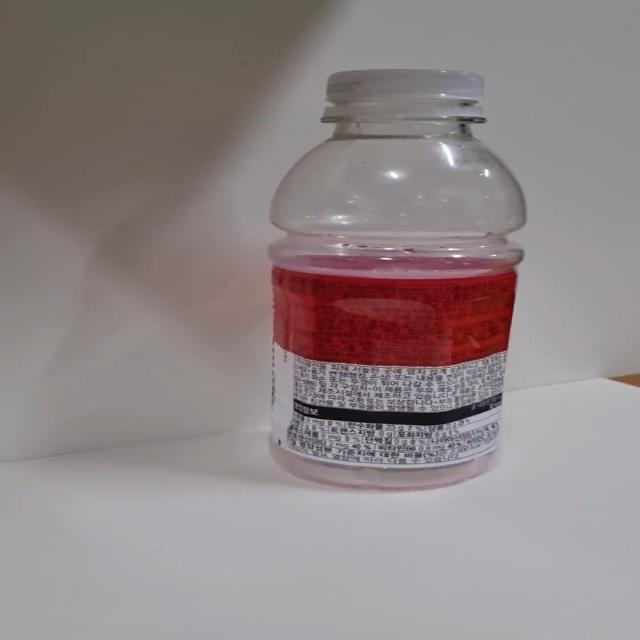Plastic: (264, 69, 529, 494)
